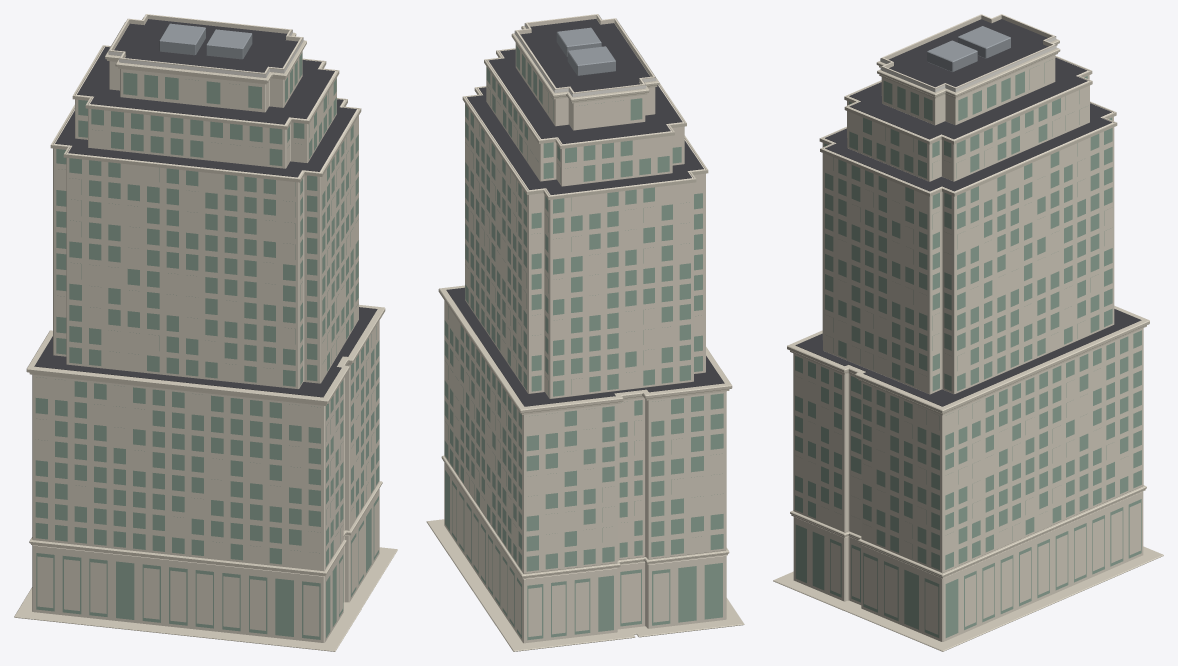
Rendered from 55-2nd-street.glb.
The picture shows the model from 3 angles, left to right: view 1: azimuth 30°, elevation 25°; view 2: azimuth 150°, elevation 25°; view 3: azimuth 270°, elevation 25°; orthographic projection. The views are drawn at different scales.
Parts seen in each view (by area): view 1: 55-2nd-street_body, 55-2nd-street_night_glow; view 2: 55-2nd-street_body, 55-2nd-street_night_glow; view 3: 55-2nd-street_body, 55-2nd-street_night_glow.
Boxes of the visible parts, <box> form: 55-2nd-street_body: <box>14,14,397,651</box>; 55-2nd-street_night_glow: <box>35,14,379,636</box>; 55-2nd-street_body: <box>426,14,744,651</box>; 55-2nd-street_night_glow: <box>444,14,723,636</box>; 55-2nd-street_body: <box>773,14,1163,651</box>; 55-2nd-street_night_glow: <box>795,36,1140,634</box>.
Size of the model in its own units: 68.55 by 101 by 67.91.
